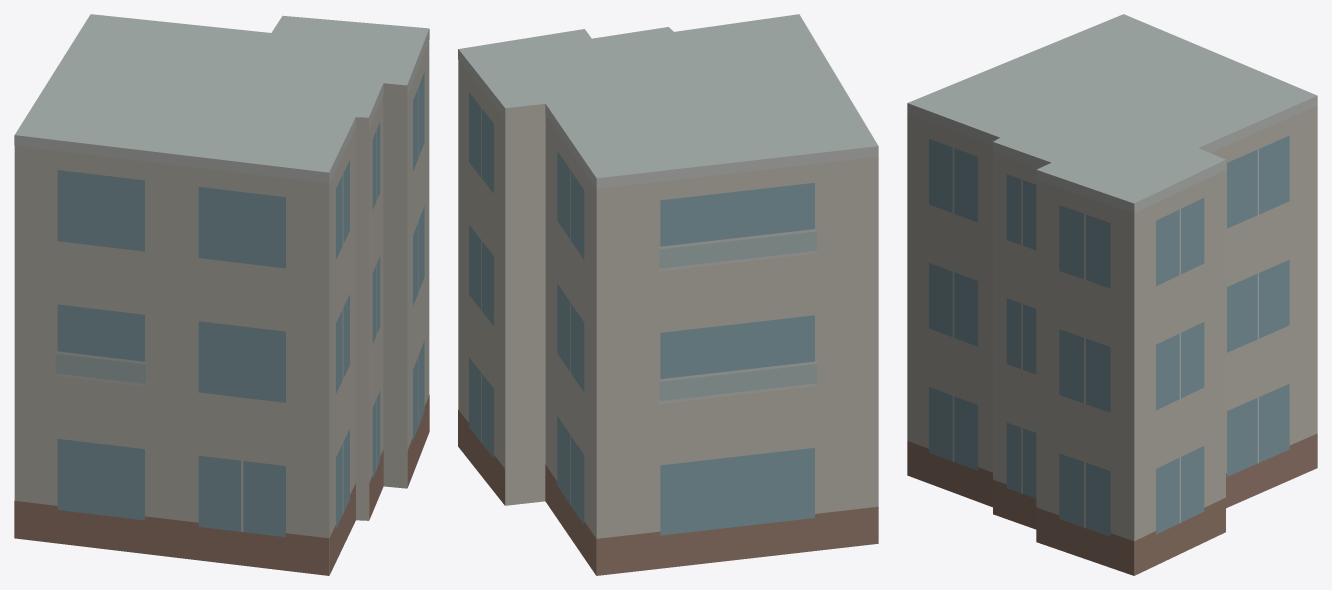
The model's file is survey-upis-32724455.glb.
The picture shows the model from 3 angles, left to right: view 1: azimuth 30°, elevation 25°; view 2: azimuth 150°, elevation 25°; view 3: azimuth 270°, elevation 25°; orthographic projection. The views are drawn at different scales.
Parts seen in each view (by area): view 1: survey-upis-32724455.tmp; view 2: survey-upis-32724455.tmp; view 3: survey-upis-32724455.tmp.
Boxes of the visible parts, x1,y1,x2,y2 form: survey-upis-32724455.tmp: (14,14,429,575); survey-upis-32724455.tmp: (458,14,878,575); survey-upis-32724455.tmp: (907,14,1317,575).
Bounding box in the file's own units: 10 × 9.15 × 9.15.
